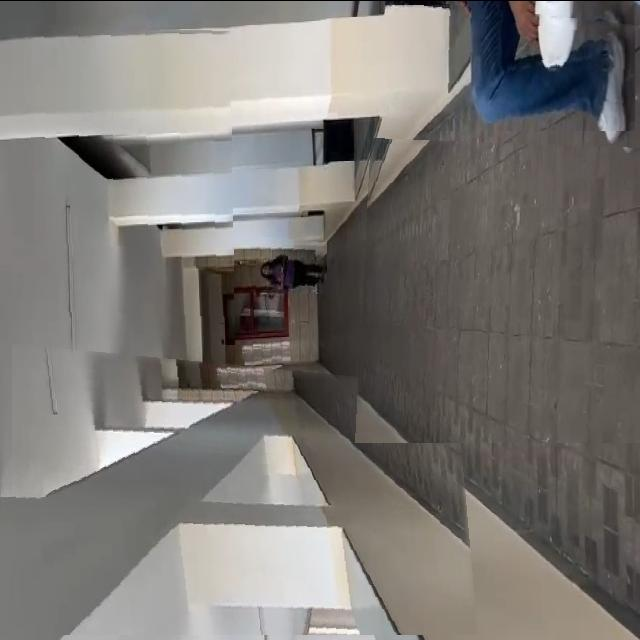floor: (355, 137, 640, 442)
moving_object: (415, 0, 635, 130), (249, 235, 327, 293)
wall: (12, 340, 482, 634), (31, 24, 235, 344)
